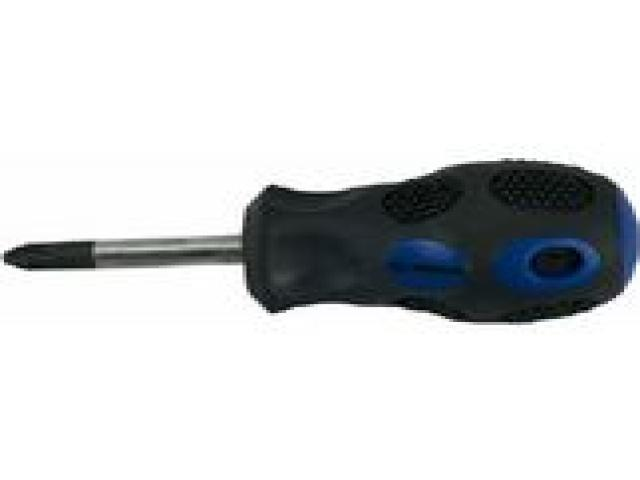Screwdriver: (4, 161, 636, 320)
